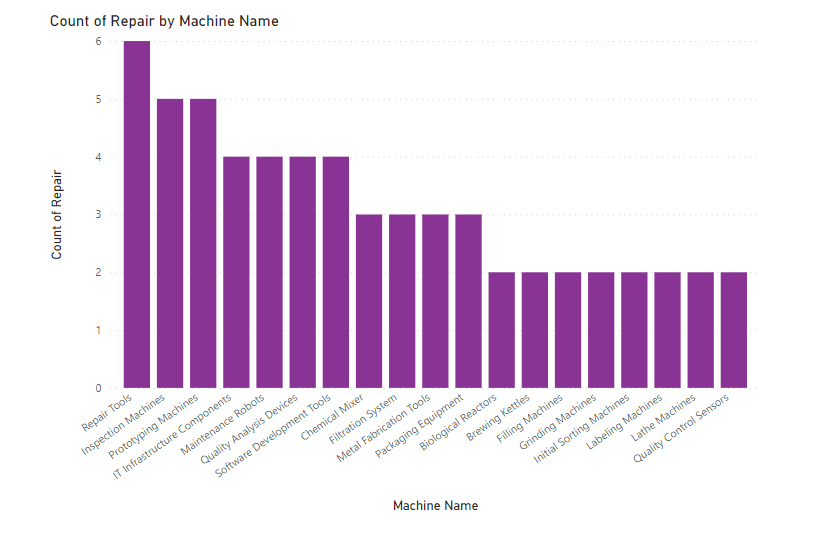

What the dashboard file says about the page in this screenshot:
{"tool":"powerbi","page":{"name":"Page 1","canvas":[1280,720],"ordinal":0},"visuals":[{"type":"columnChart","fields":{"Category":["Sheet1.Machine Name"],"Y":["CountNonNull(Sheet1.Repair)"]},"box":[89.2,82.3,790.4,555.7],"z":0}]}

Visuals, with their boxes on the page's 1280x720 design canvas (x1, y1, x2, y2). These are canvas units, not pixel positions in the 833x533 screenshot, which may show the page scaled, cropped or inside an application window:
columnChart - Sheet1.Machine Name x CountNonNull(Sheet1.Repair): (89,82,880,638)
